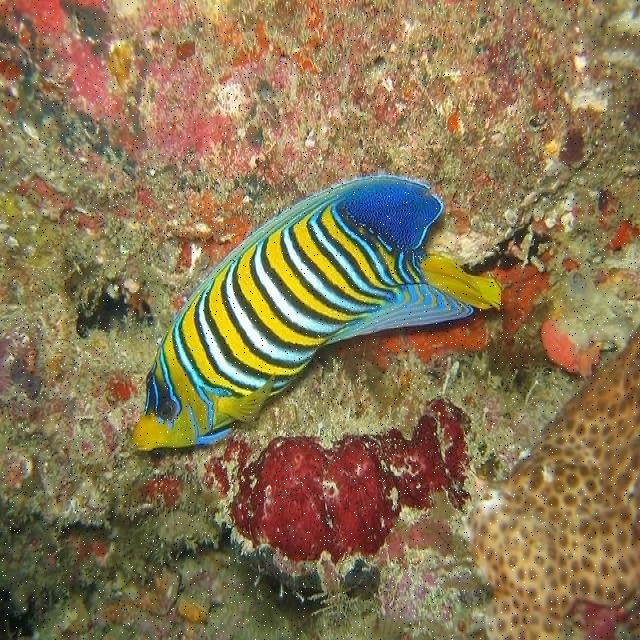fish: (132, 175, 504, 452)
